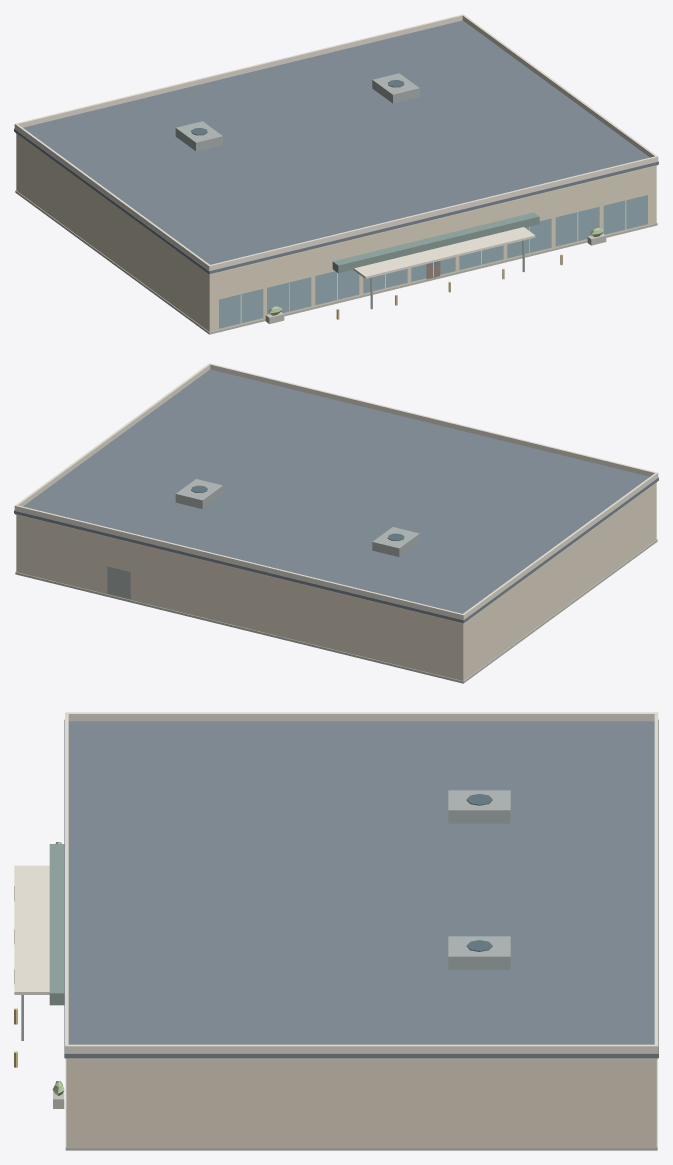
Rendered from shop-supermarket.glb.
3 renders of one model, top to bottom at view 1: azimuth 30°, elevation 25°; view 2: azimuth 150°, elevation 25°; view 3: azimuth 270°, elevation 25°, orthographic. The views are drawn at different scales.
Parts seen in each view (by area): view 1: shop-supermarket; view 2: shop-supermarket; view 3: shop-supermarket.
Part boxes in pixels (x1,y1,x2,y2): shop-supermarket: [14, 14, 658, 334]; shop-supermarket: [14, 363, 658, 683]; shop-supermarket: [14, 712, 658, 1150].
Size of the model in its own units: 48.3 by 7.51 by 39.37.
